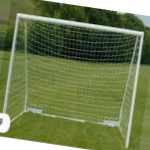goals: (2, 11, 146, 149)
